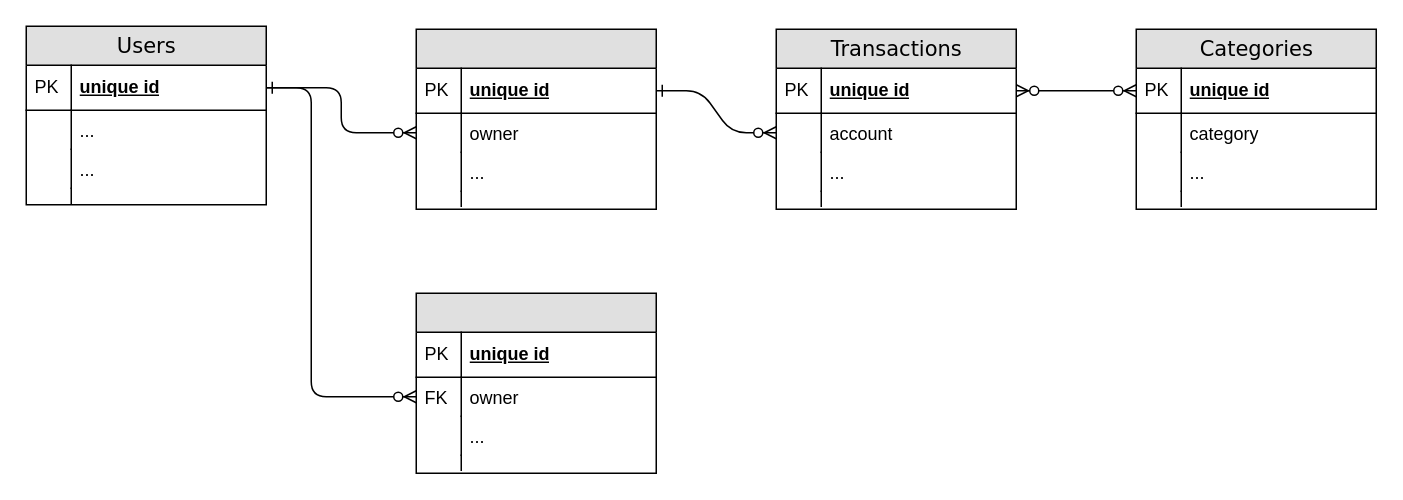
Some shapes in this 1403 by 500 pixel diagram are drawn without their labels. Here are the shapes that lost their labels. From the top down, the box of each, then its label:
(415, 28, 656, 209): Accounts
(415, 292, 656, 473): Messages
